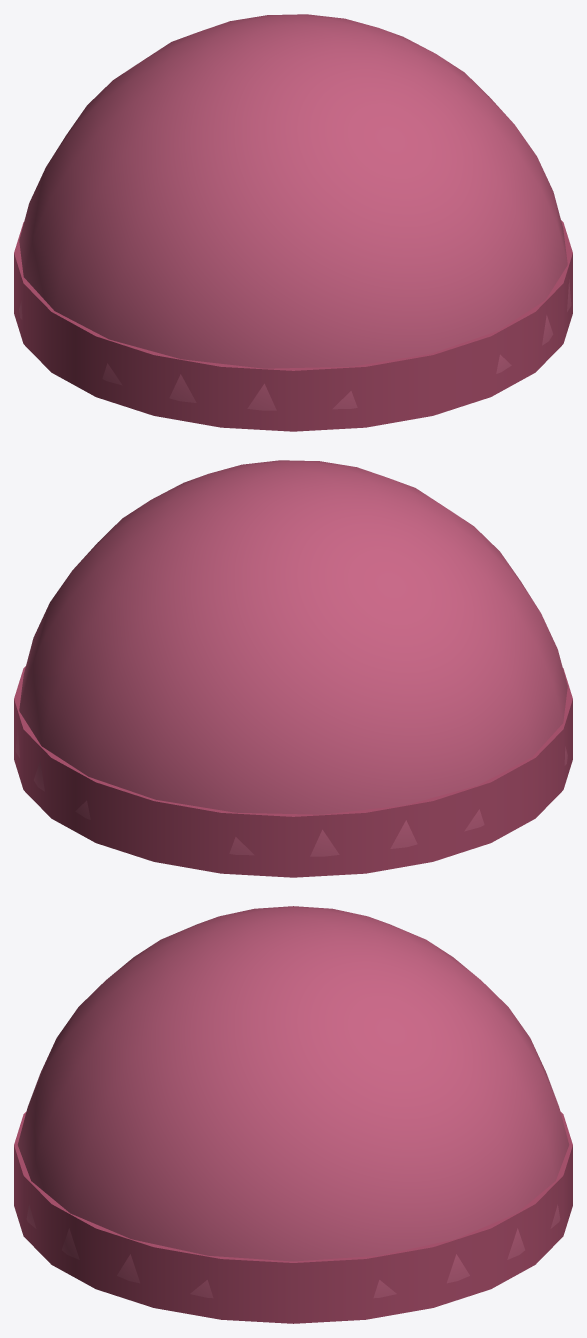
The model's file is hat-beanie.glb.
3 views of the same model, one above another, from view 1: azimuth 30°, elevation 25°; view 2: azimuth 150°, elevation 25°; view 3: azimuth 270°, elevation 25° (orthographic).
Parts seen in each view (by area): view 1: beanie, cuff; view 2: beanie, cuff; view 3: beanie, cuff.
Part boxes in pixels (x1,y1,x2,y2): beanie: [19, 14, 571, 410]; cuff: [14, 220, 572, 431]; beanie: [15, 460, 567, 856]; cuff: [14, 666, 572, 877]; beanie: [17, 906, 569, 1298]; cuff: [14, 1111, 572, 1323].
Bounding box in the file's own units: 0.25 × 0.135 × 0.25.
